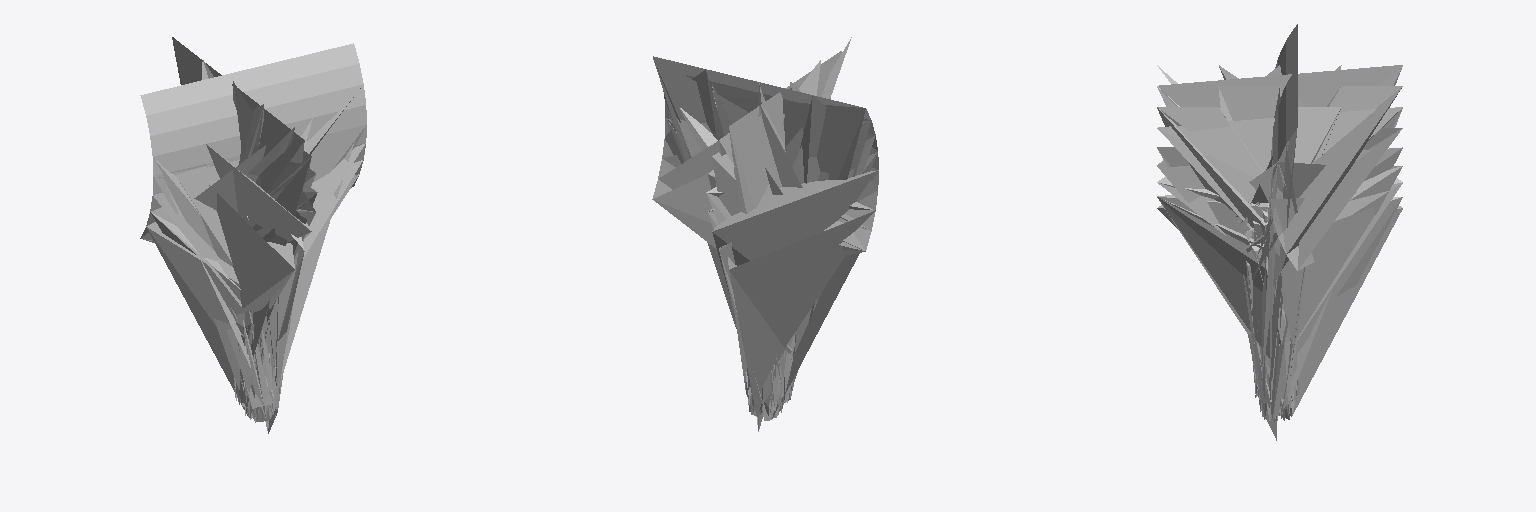
File: Carrot.obj
3 views of the same model, side by side, from view 1: azimuth 30°, elevation 25°; view 2: azimuth 150°, elevation 25°; view 3: azimuth 270°, elevation 25° (orthographic).
Visible parts, largest first — view 1: Carrot, Carrot_leaves; view 2: Carrot, Carrot_leaves; view 3: Carrot, Carrot_leaves.
Boxes of the visible parts, x1=… form: Carrot: x1=141, y1=37, x2=366, y2=433; Carrot_leaves: x1=140, y1=43, x2=366, y2=238; Carrot: x1=652, y1=37, x2=878, y2=431; Carrot_leaves: x1=653, y1=56, x2=878, y2=250; Carrot: x1=1157, y1=65, x2=1402, y2=440; Carrot_leaves: x1=1271, y1=24, x2=1297, y2=270.
Size of the model in its own units: 19.3 by 31.11 by 19.3.